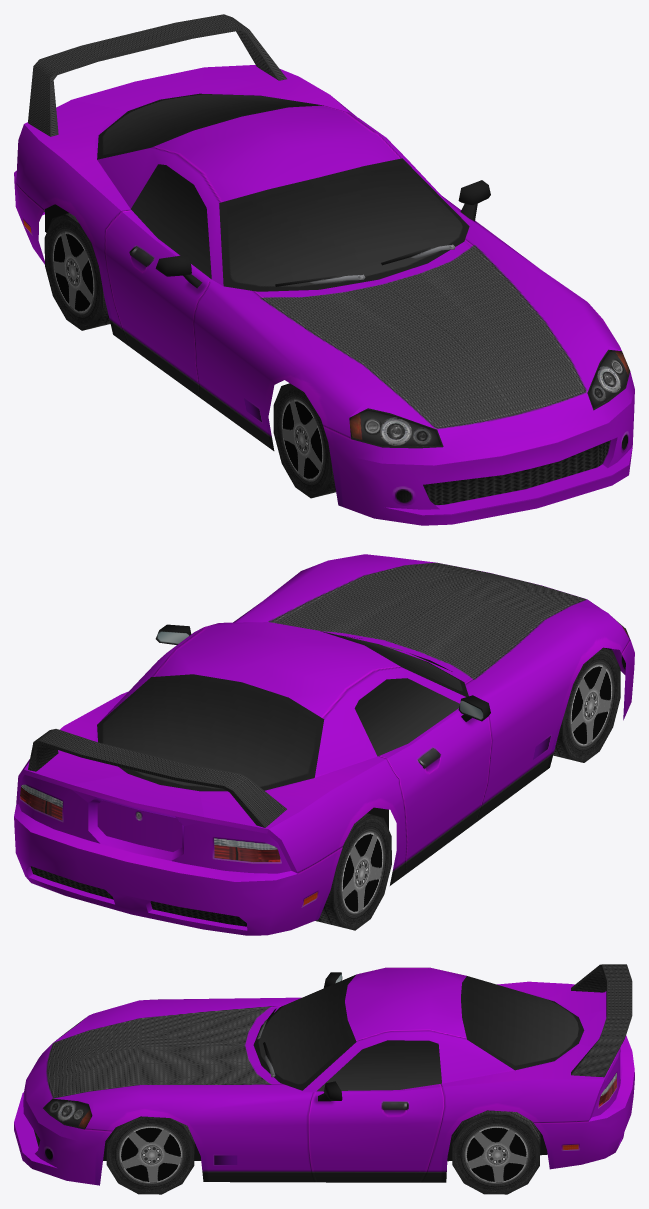
Rendered from ModernPerformanceCar_LOD1.fbx.
The picture shows the model from 3 angles, top to bottom: view 1: azimuth 30°, elevation 25°; view 2: azimuth 150°, elevation 25°; view 3: azimuth 270°, elevation 25°; orthographic projection. The views are drawn at different scales.
Parts seen in each view (by area): view 1: Chassis, RR_WHeel, RF_Wheel; view 2: Chassis, RR_WHeel, RF_Wheel; view 3: Chassis, LR_Wheel, LF_Wheel.
Part boxes in pixels (<box>): Chassis: <box>14,14,634,525</box>; RR_WHeel: <box>44,213,110,330</box>; RF_Wheel: <box>273,383,335,498</box>; Chassis: <box>14,554,634,935</box>; RR_WHeel: <box>315,813,391,930</box>; RF_Wheel: <box>553,647,620,762</box>; Chassis: <box>14,964,634,1185</box>; LR_Wheel: <box>452,1110,540,1194</box>; LF_Wheel: <box>106,1116,194,1194</box>.
Size of the model in its own units: 2.57 by 1.46 by 5.56.
2 materials, 2 textured.
